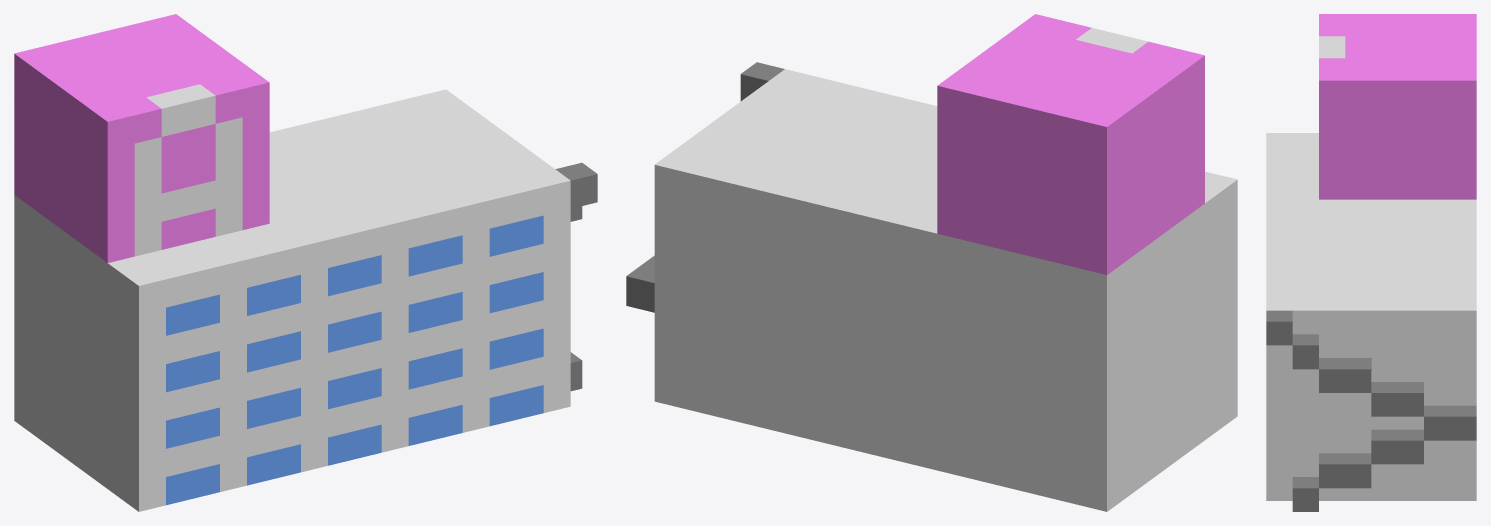
Rendered from Aeon.fbx.
The picture shows the model from 3 angles, left to right: view 1: azimuth 30°, elevation 25°; view 2: azimuth 150°, elevation 25°; view 3: azimuth 270°, elevation 25°; orthographic projection. The views are drawn at different scales.
Visible parts, largest first — view 1: Aeon; view 2: Aeon; view 3: Aeon.
Part boxes in pixels (left/top/right/bottom): Aeon: left=14, top=14, right=597, bottom=511; Aeon: left=626, top=14, right=1237, bottom=511; Aeon: left=1266, top=14, right=1476, bottom=511.
Size of the model in its own units: 10.95 by 8.37 by 5.15.
